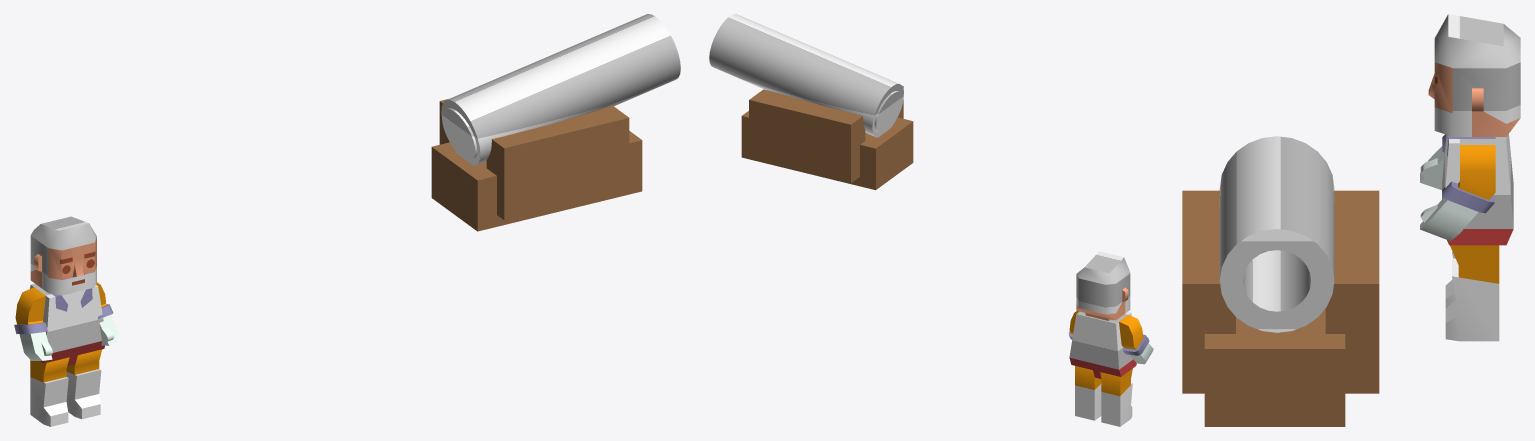
The model's file is Clown.fbx.
3 views of the same model, side by side, from view 1: azimuth 30°, elevation 25°; view 2: azimuth 150°, elevation 25°; view 3: azimuth 270°, elevation 25° (orthographic). The views are drawn at different scales.
Parts seen in each view (by area): view 1: mergedBlocks; view 2: mergedBlocks; view 3: mergedBlocks.
Boxes of the visible parts, x1=… form: mergedBlocks: x1=14, y1=14, x2=680, y2=426; mergedBlocks: x1=709, y1=14, x2=1153, y2=426; mergedBlocks: x1=1182, y1=14, x2=1520, y2=426.
Size of the model in its own units: 28.69 by 14.85 by 9.45.
9 materials, 2 textured.
